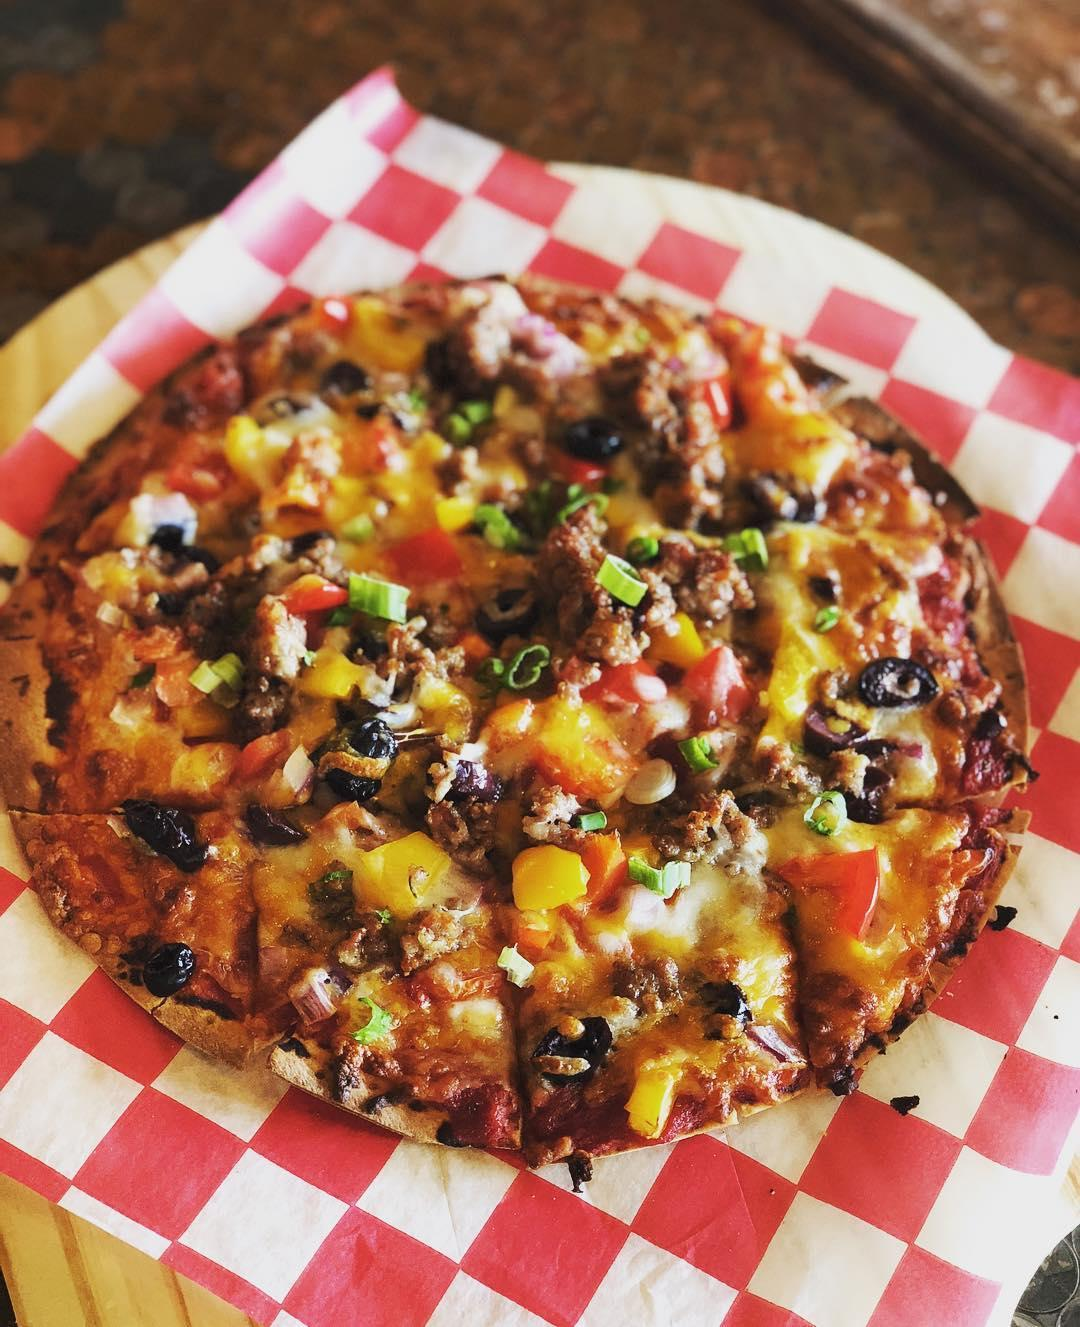Olives: (148, 528, 222, 616), (128, 797, 212, 869), (328, 719, 393, 800), (534, 1018, 612, 1087), (857, 658, 936, 704), (857, 657, 936, 703), (324, 360, 382, 419), (564, 417, 623, 458), (148, 945, 193, 993)
Peppers: (779, 843, 886, 940), (353, 827, 450, 918), (506, 841, 592, 921), (685, 641, 759, 734), (224, 409, 291, 493), (386, 525, 463, 587), (278, 571, 350, 618)
Pizza: (0, 287, 1025, 1163)
